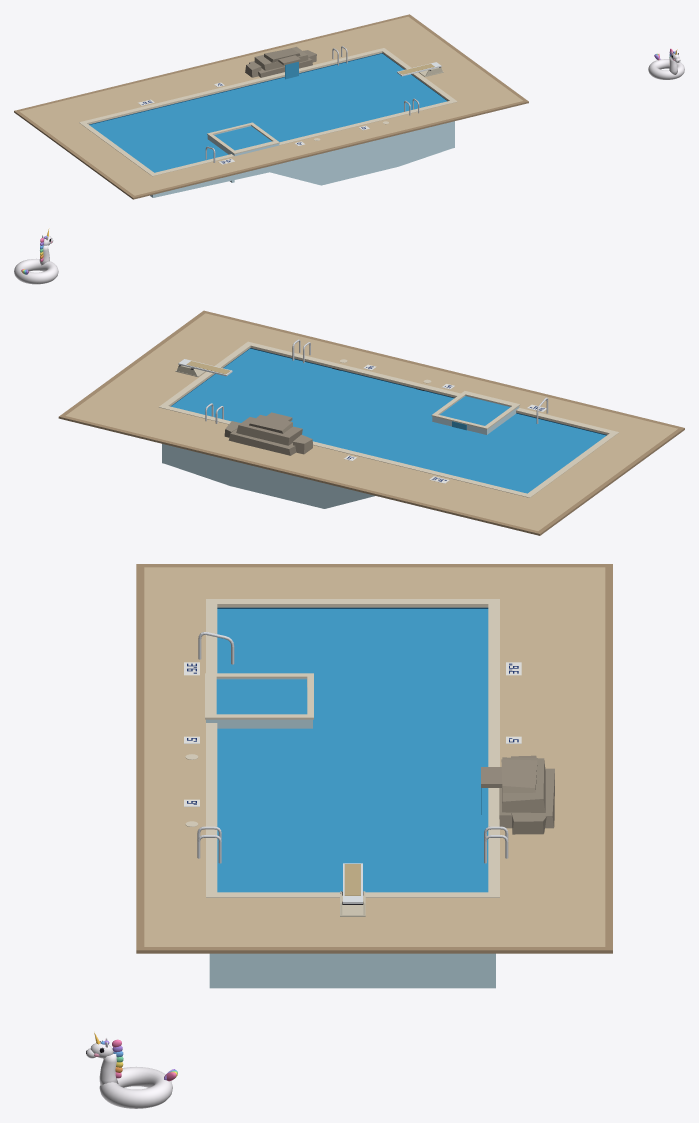
File: Pool.glb
3 renders of one model, top to bottom at view 1: azimuth 30°, elevation 25°; view 2: azimuth 150°, elevation 25°; view 3: azimuth 270°, elevation 25°, orthographic. The views are drawn at different scales.
Visible parts, largest first — view 1: BackyardPool_Pavers, BackyardPool_Water, BackyardPool_PoolPlaster, BackyardPool_Coping, BackyardPool_PaverBorder, BackyardPool_Rock, UnicornFloaty_Vinyl, BackyardPool_PoolTile, BackyardPool_Rail; view 2: BackyardPool_Pavers, BackyardPool_Water, BackyardPool_PaverBorder, BackyardPool_Coping, BackyardPool_PoolPlaster, BackyardPool_Rock, UnicornFloaty_Vinyl, BackyardPool_PoolTile; view 3: BackyardPool_Pavers, BackyardPool_Water, BackyardPool_Coping, BackyardPool_PaverBorder, BackyardPool_PoolPlaster, BackyardPool_Rock, UnicornFloaty_Vinyl, BackyardPool_Rail.
Part boxes in pixels (left/top/right/bottom): BackyardPool_Pavers: left=19, top=16, right=522, bottom=195; BackyardPool_Water: left=89, top=53, right=446, bottom=172; BackyardPool_PoolPlaster: left=150, top=121, right=454, bottom=197; BackyardPool_Coping: left=79, top=48, right=457, bottom=176; BackyardPool_PaverBorder: left=14, top=14, right=528, bottom=199; BackyardPool_Rock: left=245, top=46, right=316, bottom=77; UnicornFloaty_Vinyl: left=648, top=50, right=684, bottom=79; BackyardPool_PoolTile: left=89, top=53, right=447, bottom=124; BackyardPool_Rail: left=205, top=46, right=419, bottom=162; BackyardPool_Pavers: left=65, top=313, right=677, bottom=530; BackyardPool_Water: left=171, top=348, right=606, bottom=493; BackyardPool_PaverBorder: left=58, top=310, right=684, bottom=535; BackyardPool_Coping: left=159, top=341, right=619, bottom=497; BackyardPool_PoolPlaster: left=162, top=395, right=519, bottom=508; BackyardPool_Rock: left=224, top=412, right=312, bottom=455; UnicornFloaty_Vinyl: left=14, top=235, right=58, bottom=284; BackyardPool_PoolTile: left=170, top=348, right=606, bottom=435; BackyardPool_Pavers: left=144, top=567, right=605, bottom=946; BackyardPool_Water: left=216, top=609, right=488, bottom=892; BackyardPool_Coping: left=185, top=599, right=499, bottom=897; BackyardPool_PaverBorder: left=136, top=564, right=612, bottom=953; BackyardPool_PoolPlaster: left=206, top=678, right=495, bottom=988; BackyardPool_Rock: left=481, top=755, right=554, bottom=834; UnicornFloaty_Vinyl: left=86, top=1038, right=172, bottom=1108; BackyardPool_Rail: left=197, top=632, right=508, bottom=863.
Bounding box in the file's own units: 128 × 17.3 × 53.08.
